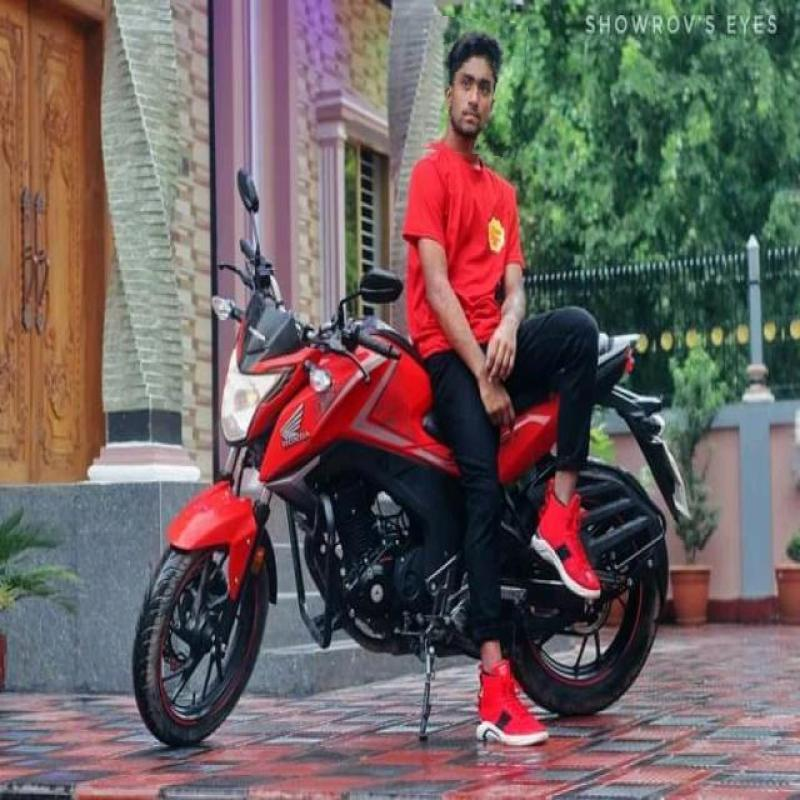nohelmet: (424, 18, 526, 156)
